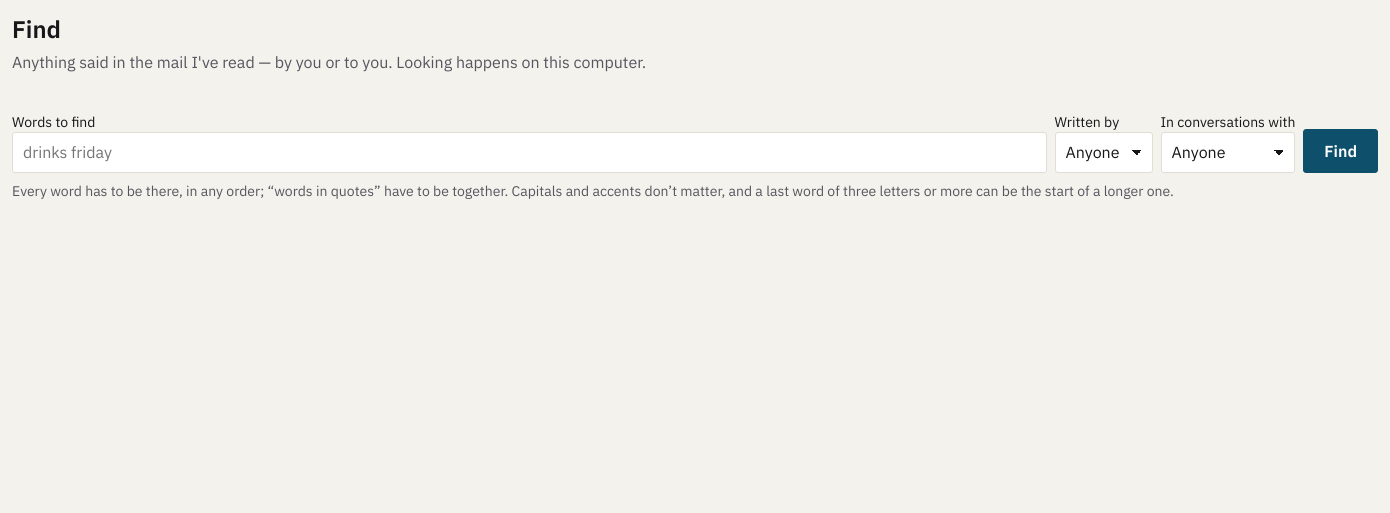
Test case: finding what was said › finds what was typed, says how much, marks the match, and reads on from the last one
This screenshot has width=1390, height=513.
In the search field labelled "Words to find": (529, 153) [12,132,1046,174], type "  friday "
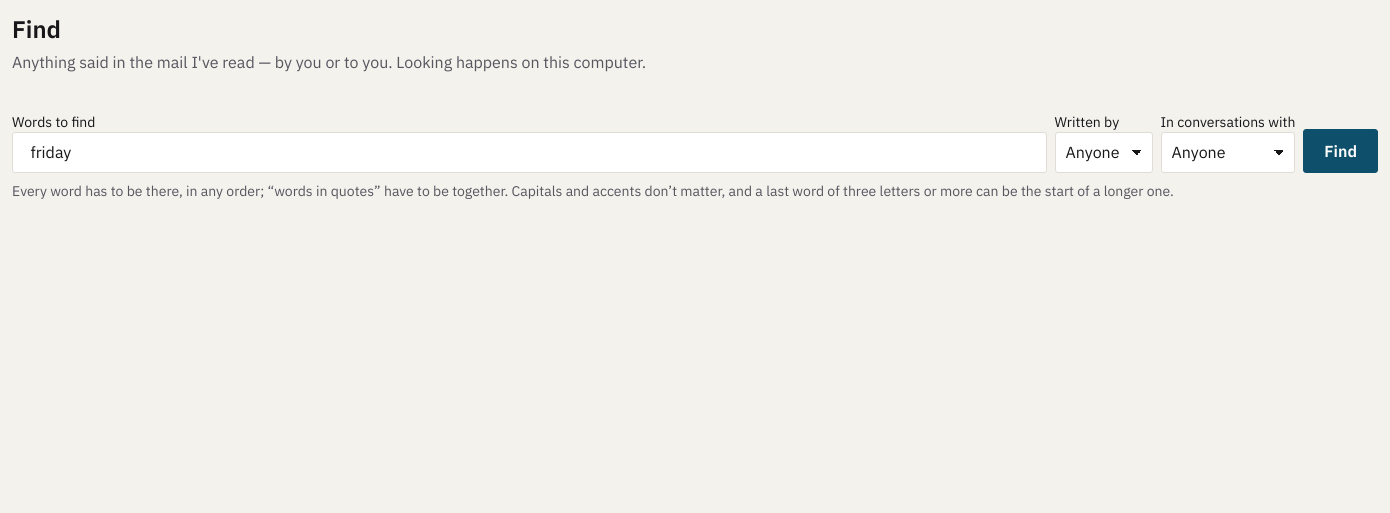
Click the button "Find": (1341, 152) [1303,130,1378,174]
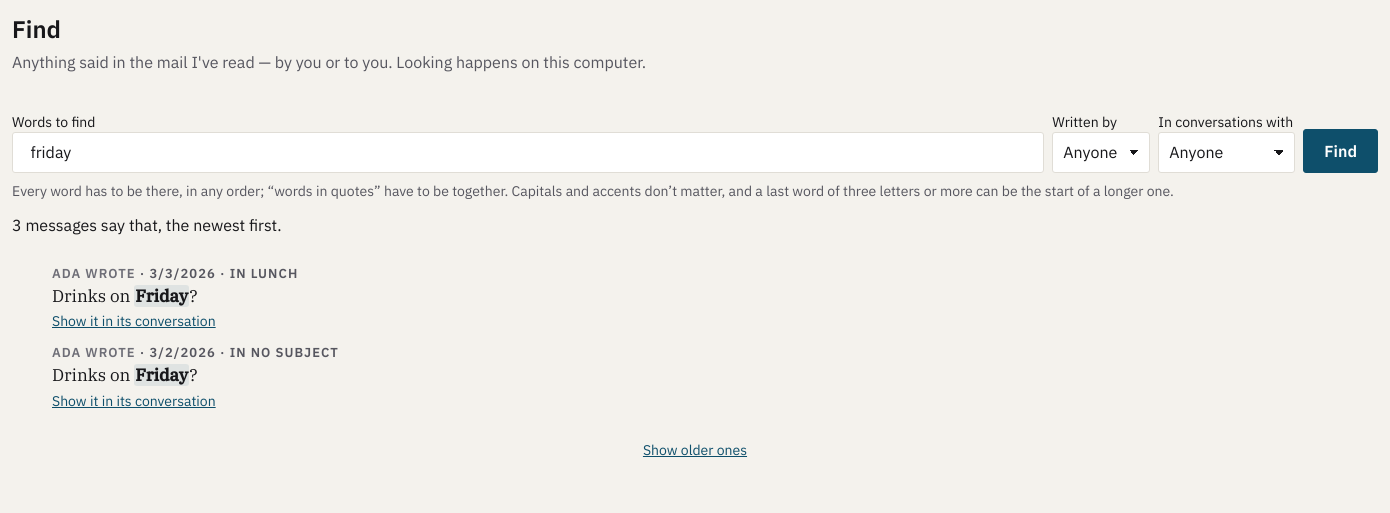
Result: the message reads "3 messages say that, the newest first." at [12,215,282,235]
Result: the number of list items is 2 at [52,265,298,332]; [52,344,339,411]
Result: the 1st list item shows "Ada wrote" at [52,265,136,282]
Click the button "Show older ones": (695, 450) [12,440,1378,460]
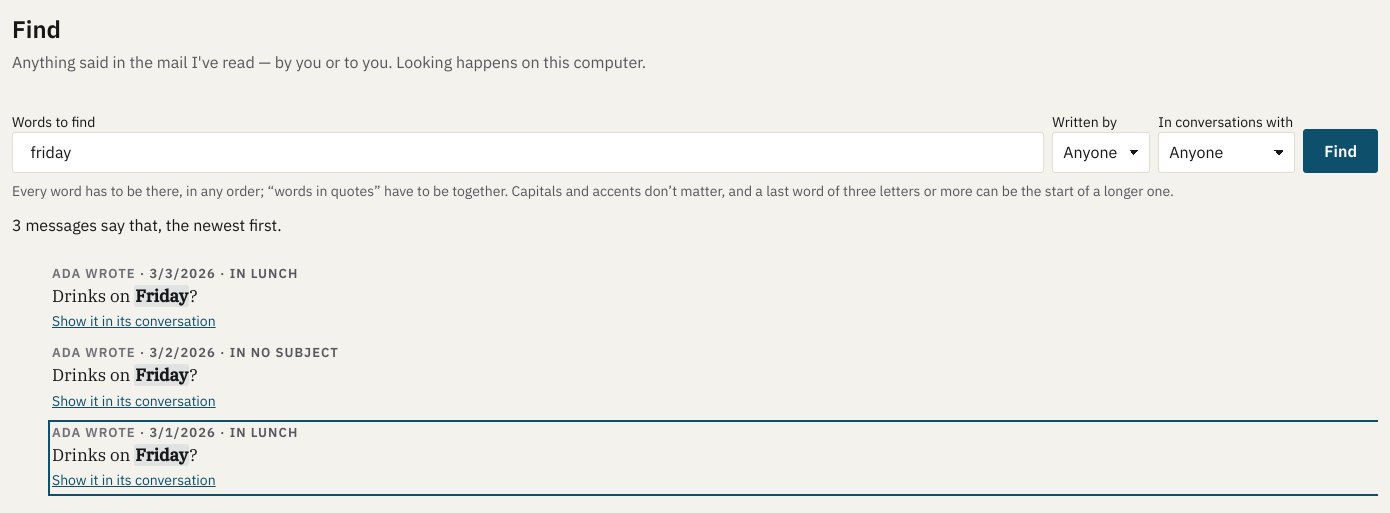
Result: the number of list items is 3 at [52,265,298,332]; [52,344,339,411]; [52,424,298,491]
Result: the button "Show older ones" is gone
